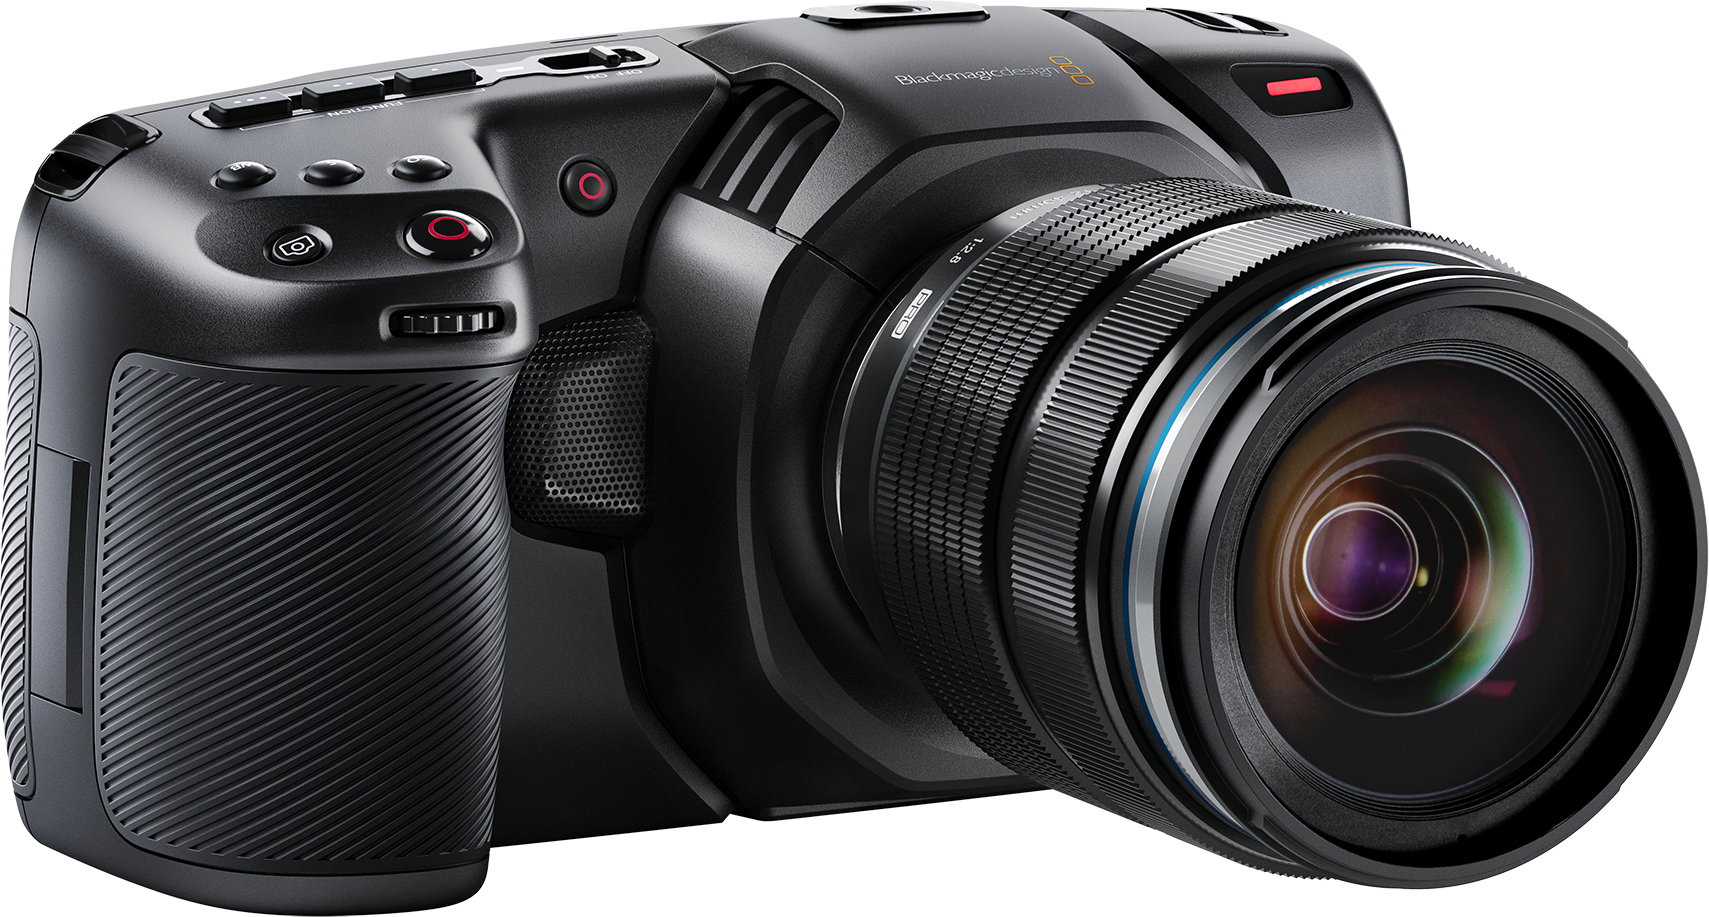kamera: (1, 1, 1709, 917)
